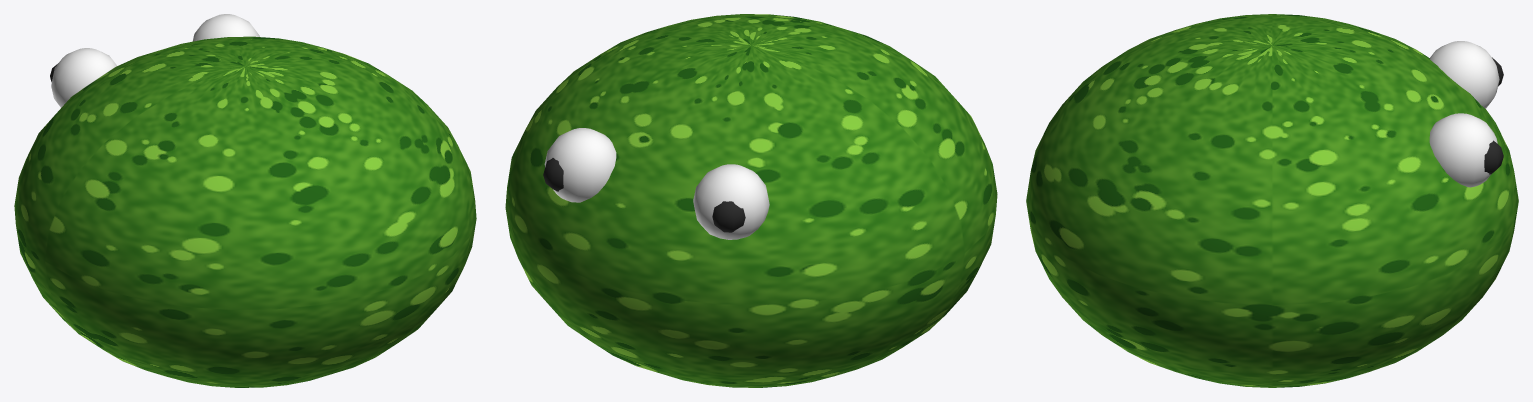
The model's file is amber-ooze.glb.
3 views of the same model, side by side, from view 1: azimuth 30°, elevation 25°; view 2: azimuth 150°, elevation 25°; view 3: azimuth 270°, elevation 25° (orthographic). The views are drawn at different scales.
Visible parts, largest first — view 1: Body, Eye, Eye.001; view 2: Body, Eye, Eye.001, Pupil, Pupil.001; view 3: Body, Eye.001, Eye, Pupil.001.
Part boxes in pixels (left/top/right/bottom): Body: left=14, top=36, right=476, bottom=387; Eye: left=51, top=48, right=116, bottom=107; Eye.001: left=192, top=14, right=259, bottom=41; Body: left=505, top=14, right=997, bottom=387; Eye: left=693, top=164, right=769, bottom=239; Eye.001: left=544, top=128, right=616, bottom=202; Pupil: left=712, top=201, right=745, bottom=232; Pupil.001: left=543, top=158, right=563, bottom=191; Body: left=1026, top=14, right=1518, bottom=387; Eye.001: left=1429, top=113, right=1497, bottom=187; Eye: left=1429, top=41, right=1499, bottom=108; Pupil.001: left=1484, top=140, right=1503, bottom=174.
Size of the model in its own units: 1.44 by 1 by 1.44.
3 materials, 1 textured.
